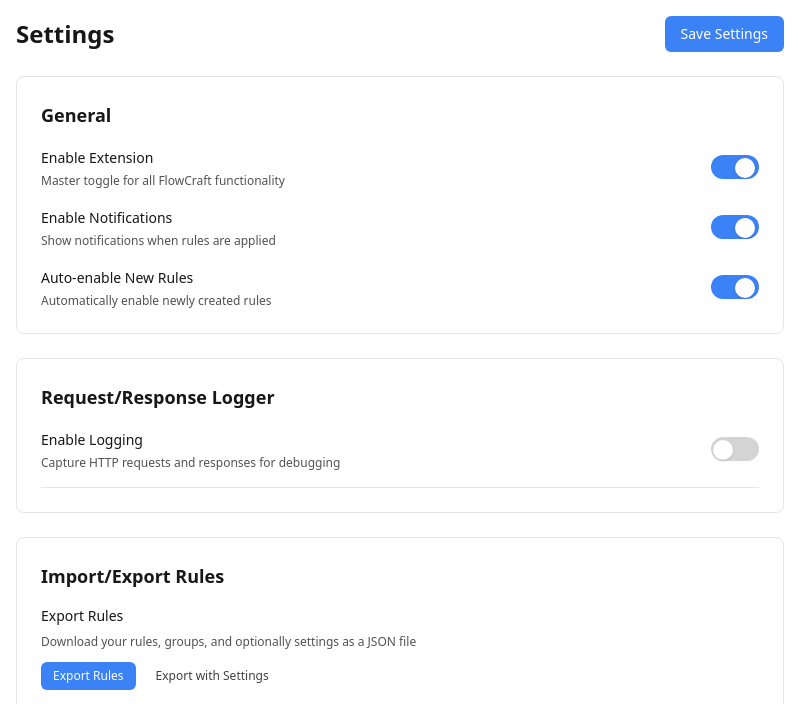
SettingsView › Save Button › should show error status when save fails
Expected: the heading "Settings" is shown, [16,18,114,50]
Click the button with test id "save-settings-btn".
click(724, 34)  # box [664,16,784,52]
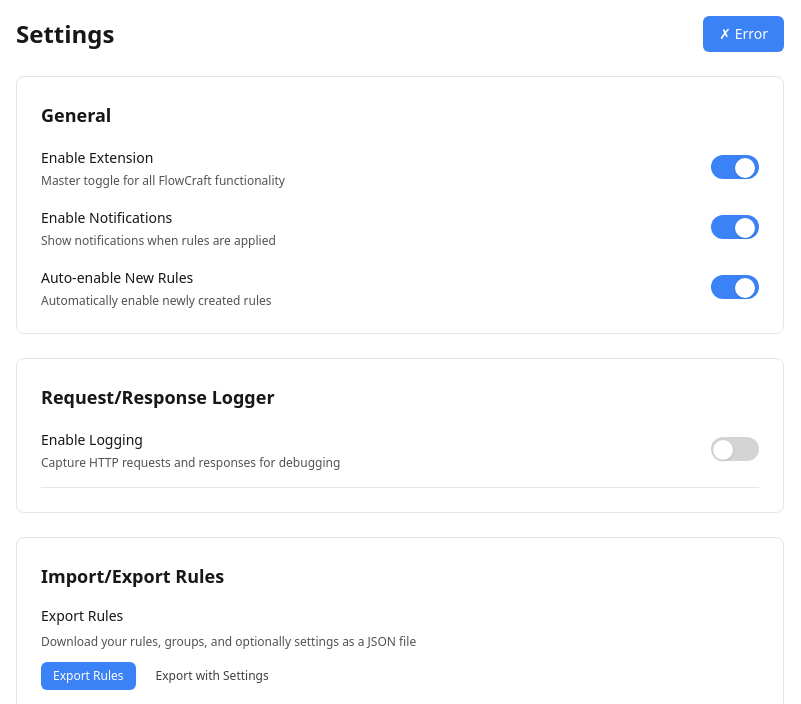
Expected: the button "✗ Error" is shown, [703,16,784,52]
